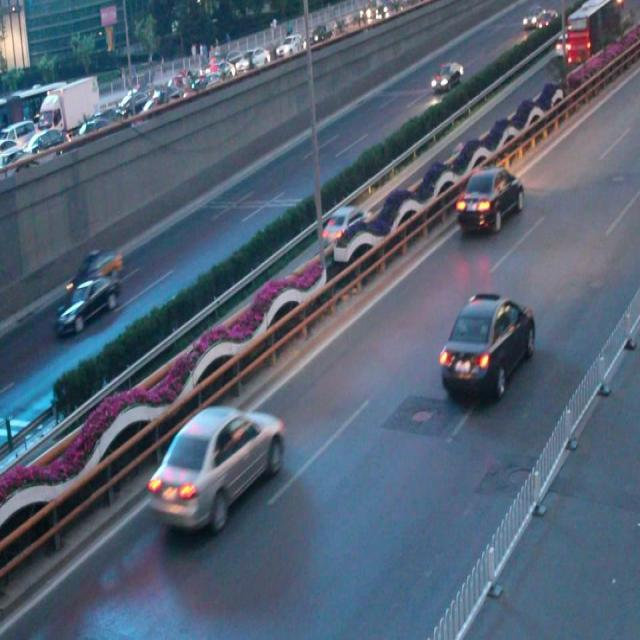car: (148, 403, 285, 529), (440, 295, 533, 395), (453, 166, 522, 236), (58, 280, 120, 334), (321, 204, 368, 251), (74, 249, 123, 281), (429, 62, 464, 94)
